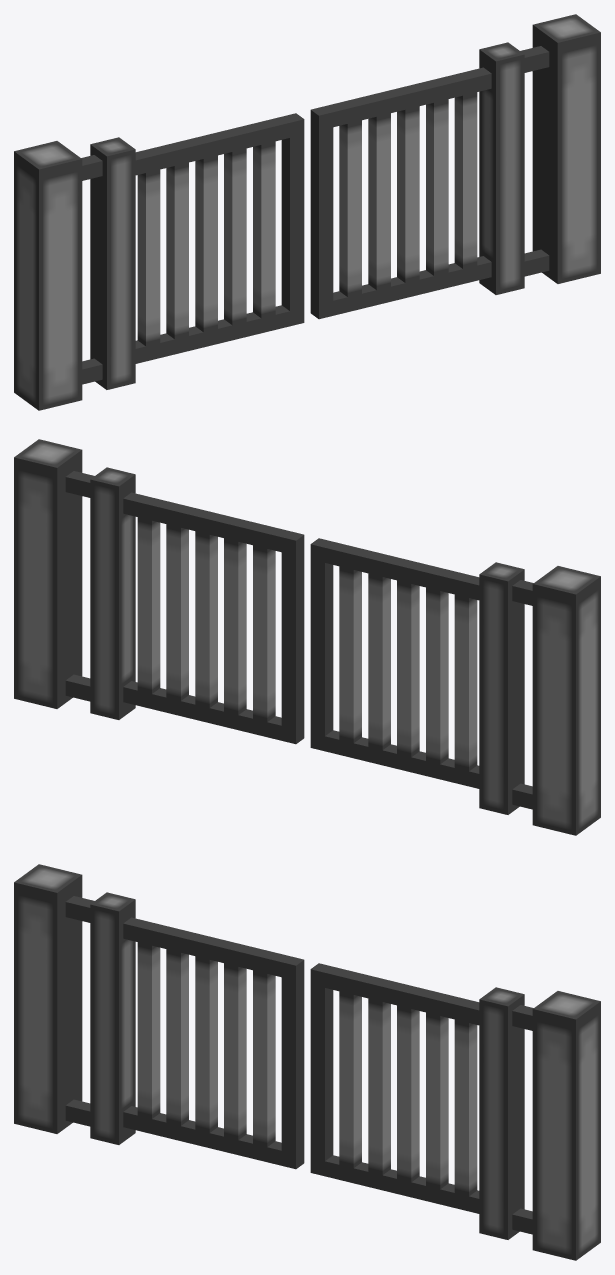
The model's file is Gate_0_0.fbx.
3 renders of one model, top to bottom at view 1: azimuth 30°, elevation 25°; view 2: azimuth 150°, elevation 25°; view 3: azimuth 330°, elevation 25°, orthographic.
Parts seen in each view (by area): view 1: object 2, _1, Matrix_17; view 2: object 2, _1, Matrix_17; view 3: _1, object 2, Matrix_17.
Part boxes in pixels (x1=…): object 2: x1=310, y1=42, x2=524, y2=319; _1: x1=90, y1=113, x2=304, y2=389; Matrix_17: x1=14, y1=14, x2=600, y2=410; object 2: x1=90, y1=467, x2=304, y2=744; _1: x1=310, y1=538, x2=524, y2=814; Matrix_17: x1=14, y1=439, x2=600, y2=835; _1: x1=90, y1=892, x2=304, y2=1169; object 2: x1=310, y1=963, x2=524, y2=1239; Matrix_17: x1=14, y1=864, x2=600, y2=1260.
Bounding box in the file's own units: 78 × 32 × 6.
